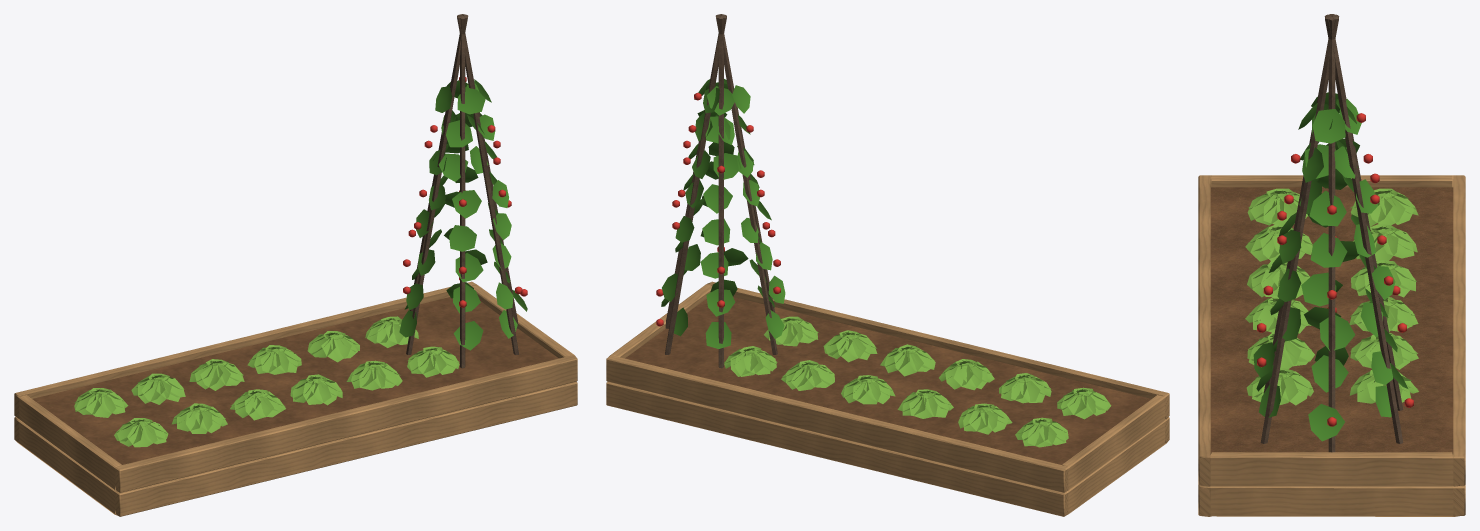
Rendered from veg_bed.glb.
The picture shows the model from 3 angles, left to right: view 1: azimuth 30°, elevation 25°; view 2: azimuth 150°, elevation 25°; view 3: azimuth 270°, elevation 25°; orthographic projection. The views are drawn at different scales.
Parts seen in each view (by area): view 1: veg_bed; view 2: veg_bed; view 3: veg_bed.
Part boxes in pixels (bbox=[...]): veg_bed: bbox=[14, 14, 577, 516]; veg_bed: bbox=[606, 14, 1169, 516]; veg_bed: bbox=[1198, 14, 1465, 516].
Bounding box in the file's own units: 11.06 × 8.4 × 4.4.
Materials: 6 (3 with a texture image).
